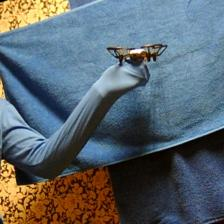drone: (105, 44, 169, 64)
